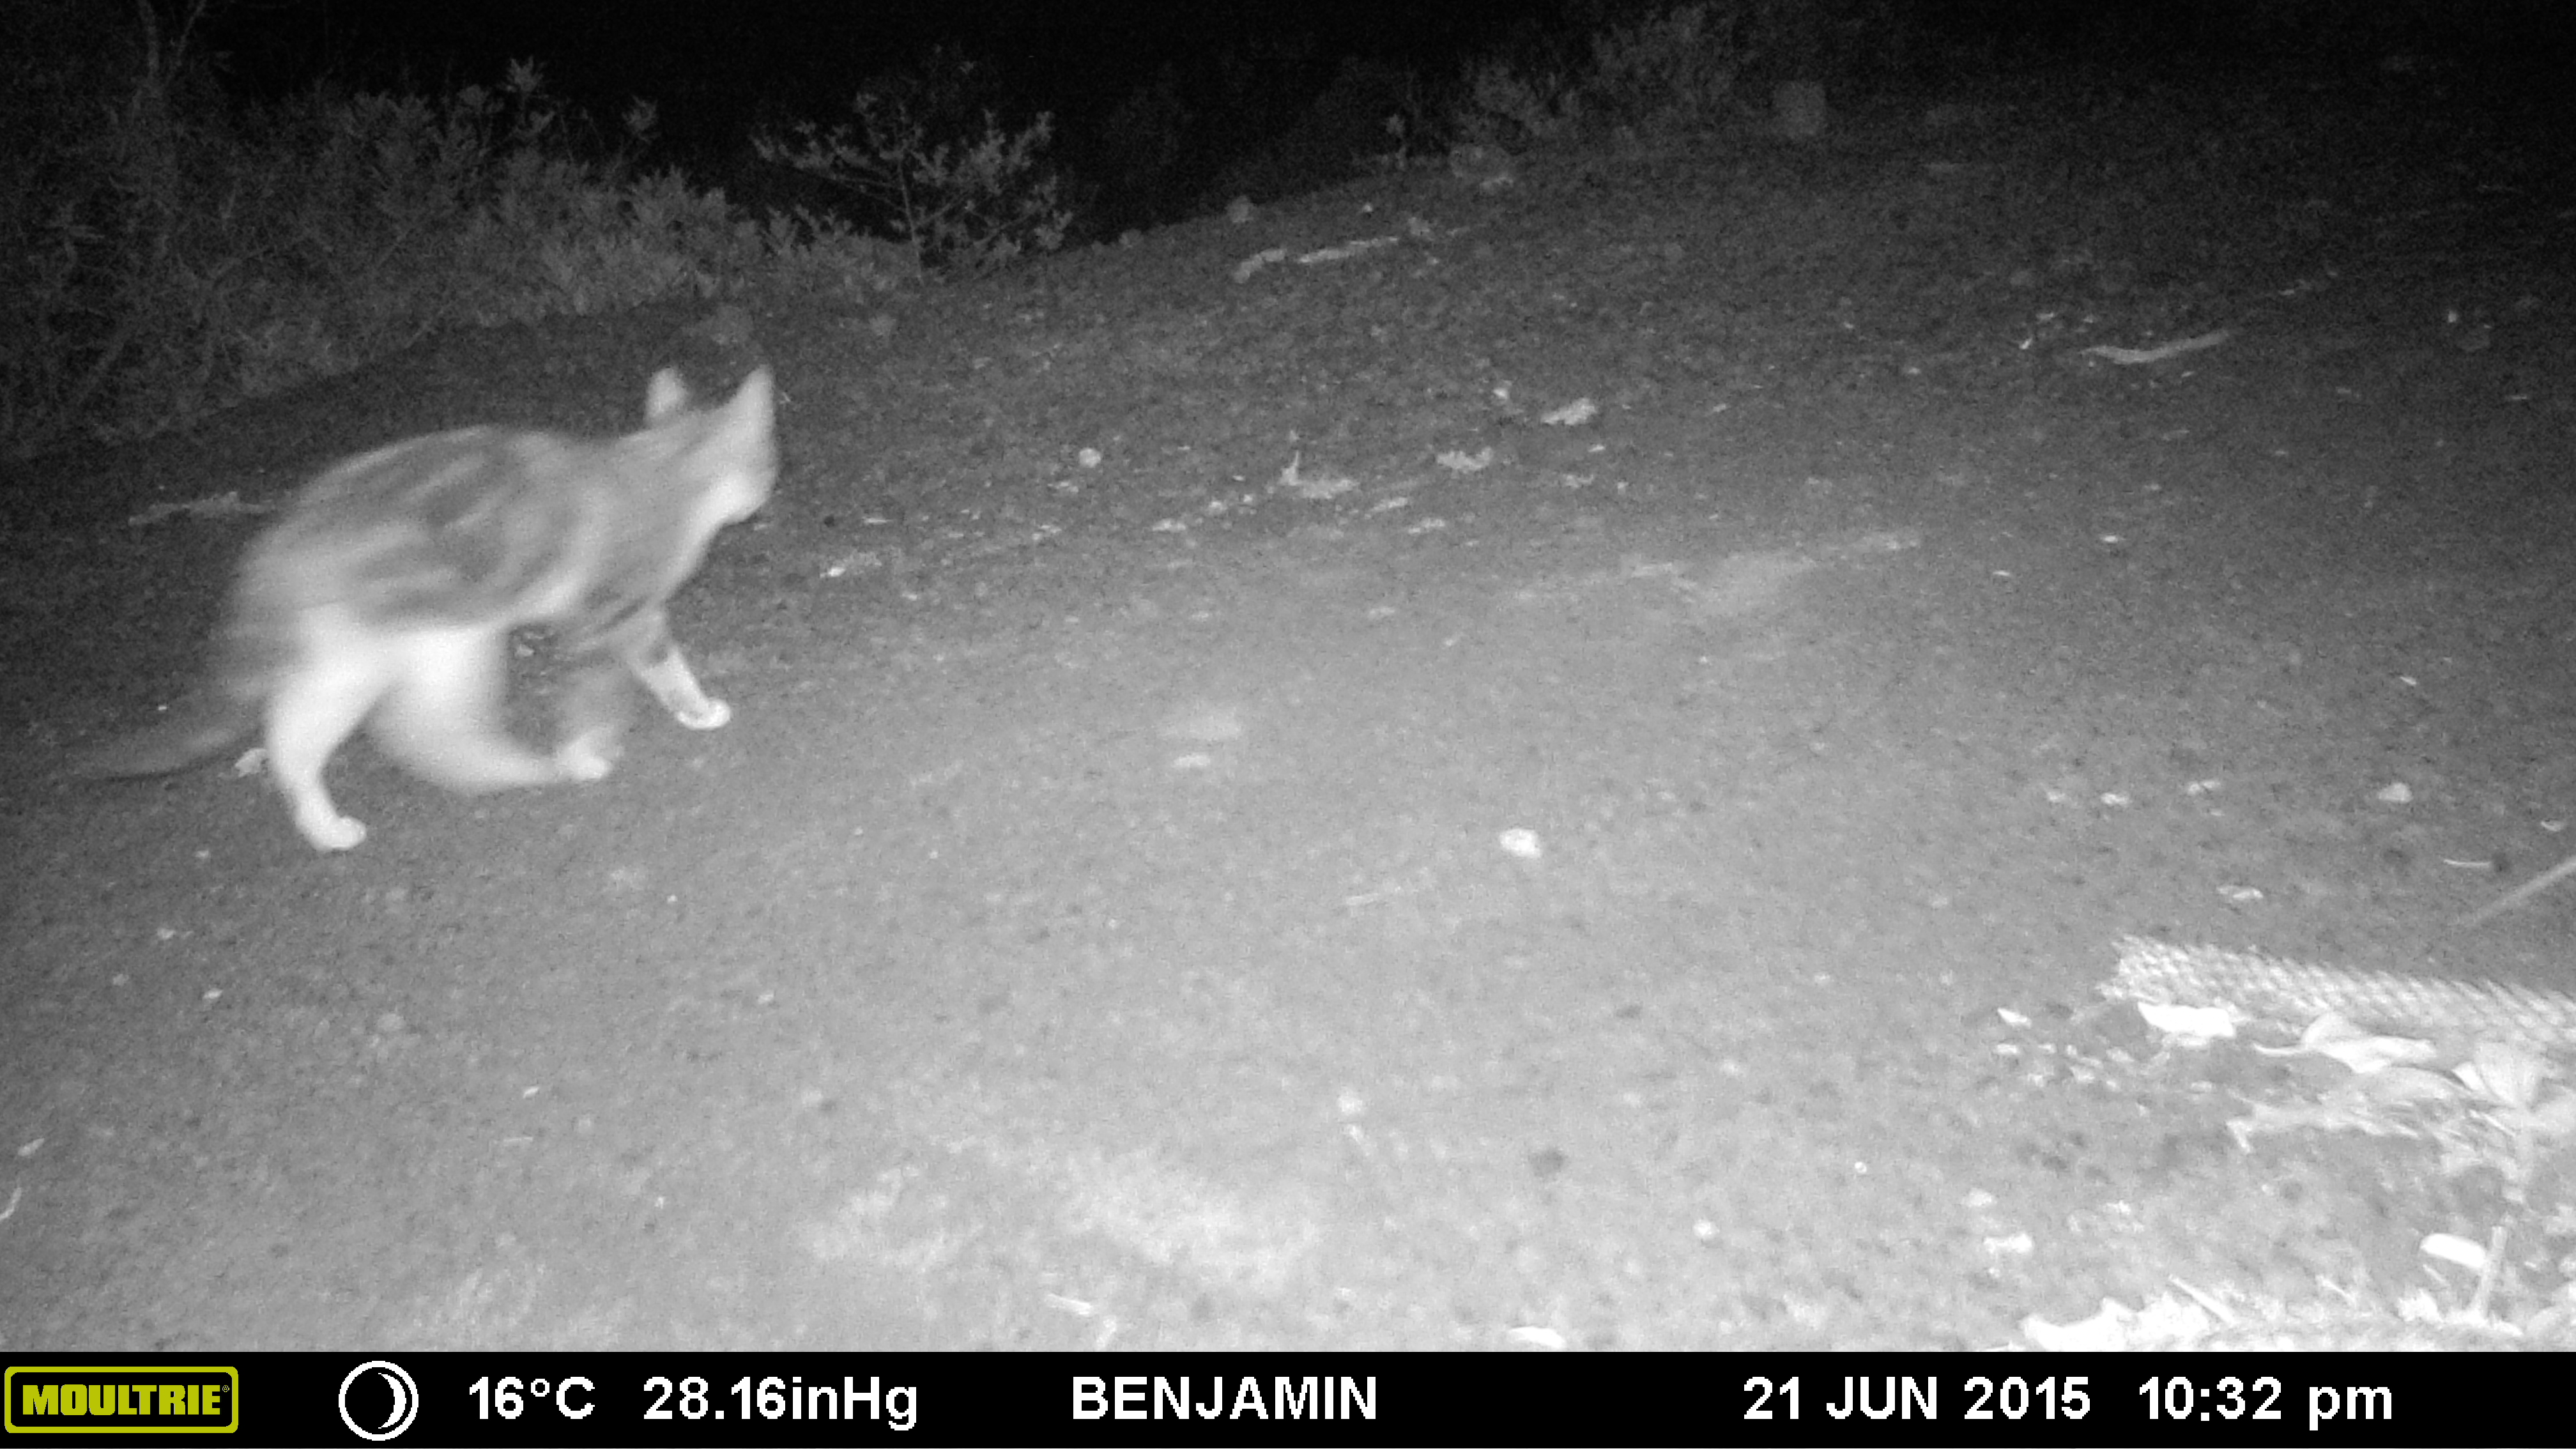cat: (80, 357, 796, 901)
